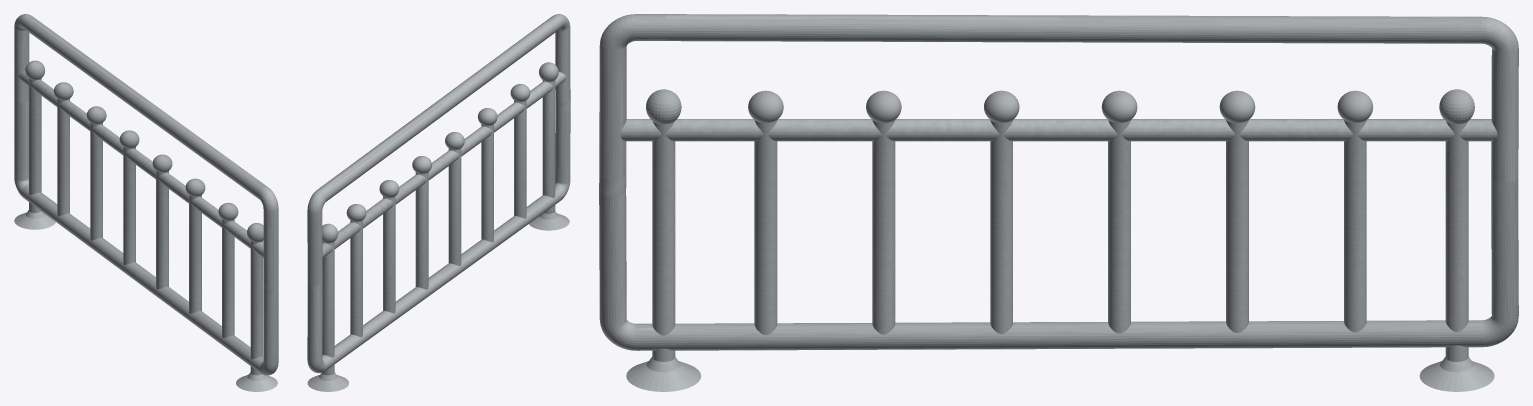
The model's file is CircusFence.fbx.
3 views of the same model, side by side, from view 1: azimuth 30°, elevation 25°; view 2: azimuth 150°, elevation 25°; view 3: azimuth 270°, elevation 25° (orthographic). The views are drawn at different scales.
Visible parts, largest first — view 1: Post1; view 2: Post1; view 3: Post1.
Boxes of the visible parts, <box> form: Post1: <box>14,14,278,391</box>; Post1: <box>307,14,570,391</box>; Post1: <box>599,14,1518,391</box>.
Size of the model in its own units: 114 by 606 by 1399.
Materials: 1 (1 with a texture image).
